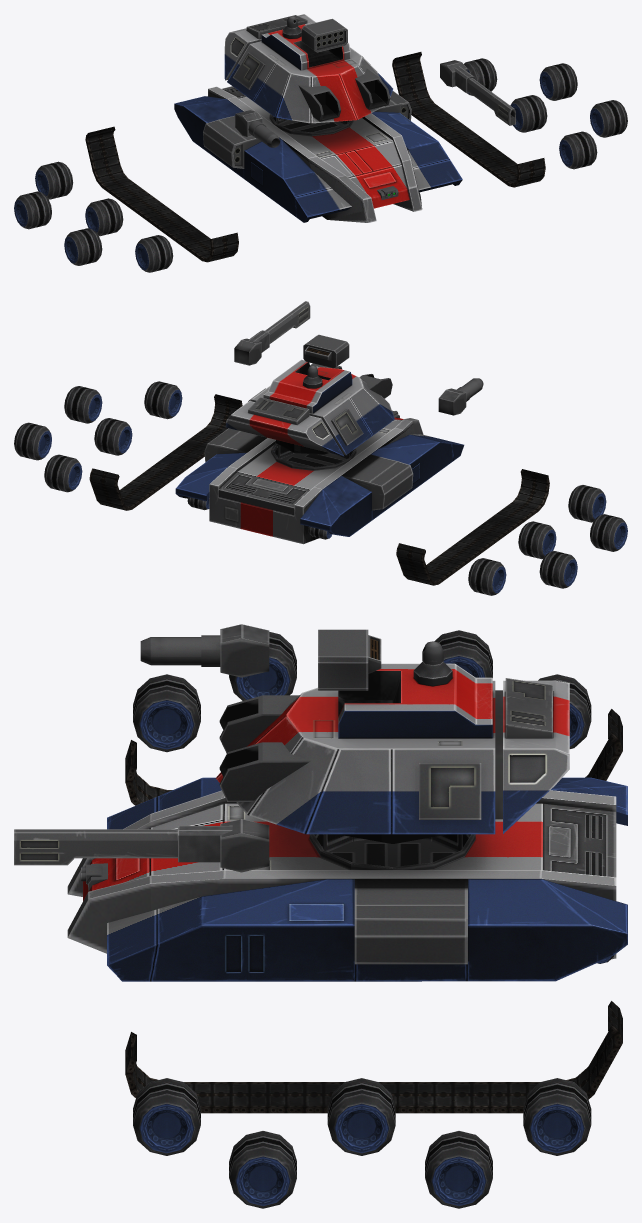
Rendered from Challenger_ex.FBX.
3 renders of one model, top to bottom at view 1: azimuth 30°, elevation 25°; view 2: azimuth 150°, elevation 25°; view 3: azimuth 270°, elevation 25°, orthographic. The views are drawn at different scales.
Visible parts, largest first — view 1: body, turret, trackl, trackr, launcher_3, wheel4, wheel8, wheel7, wheel1, wheel2, wheel10, wheel3 (+7 smaller); view 2: body, turret, trackl, trackr, launcher_3, wheel5, wheel11, wheel4, wheel10, wheel9, wheel8, wheel7 (+6 smaller); view 3: body, turret, trackr, barrel_2, wheel11, wheel9, wheel1, wheel10, wheel8, wheel7, mantlet_2, launcher_3 (+6 smaller).
Boxes of the visible parts, left/top/right/bottom form: body: left=174, top=86, right=462, bottom=222; turret: left=224, top=14, right=392, bottom=123; trackl: left=85, top=126, right=238, bottom=262; trackr: left=392, top=52, right=545, bottom=187; launcher_3: left=301, top=18, right=347, bottom=52; wheel4: left=14, top=191, right=51, bottom=229; wheel8: left=590, top=100, right=627, bottom=137; wheel7: left=559, top=131, right=597, bottom=169; wheel1: left=135, top=235, right=173, bottom=272; wheel2: left=64, top=228, right=102, bottom=265; wheel10: left=539, top=63, right=577, bottom=100; wheel3: left=85, top=198, right=123, bottom=236; body: left=175, top=410, right=464, bottom=544; turret: left=226, top=359, right=394, bottom=456; trackl: left=396, top=469, right=549, bottom=585; trackr: left=89, top=394, right=242, bottom=510; launcher_3: left=303, top=334, right=349, bottom=368; wheel5: left=468, top=558, right=506, bottom=595; wheel11: left=44, top=454, right=82, bottom=492; wheel4: left=539, top=551, right=577, bottom=588; wheel10: left=14, top=422, right=51, bottom=460; wheel9: left=94, top=418, right=132, bottom=455; wheel8: left=64, top=386, right=102, bottom=423; wheel7: left=144, top=381, right=182, bottom=419; body: left=67, top=777, right=627, bottom=981; turret: left=215, top=641, right=569, bottom=843; trackr: left=125, top=1001, right=622, bottom=1113; barrel_2: left=14, top=829, right=177, bottom=865; wheel11: left=523, top=1078, right=591, bottom=1155; wheel9: left=327, top=1078, right=395, bottom=1155; wheel1: left=133, top=674, right=200, bottom=752; wheel10: left=425, top=1131, right=492, bottom=1208; wheel8: left=229, top=1131, right=296, bottom=1208; wheel7: left=133, top=1078, right=200, bottom=1155; mantlet_2: left=178, top=819, right=269, bottom=872; launcher_3: left=318, top=629, right=381, bottom=690.
Bounding box in the file's own units: 138 × 38.39 × 68.23.
Materials: 1 (1 with a texture image).
